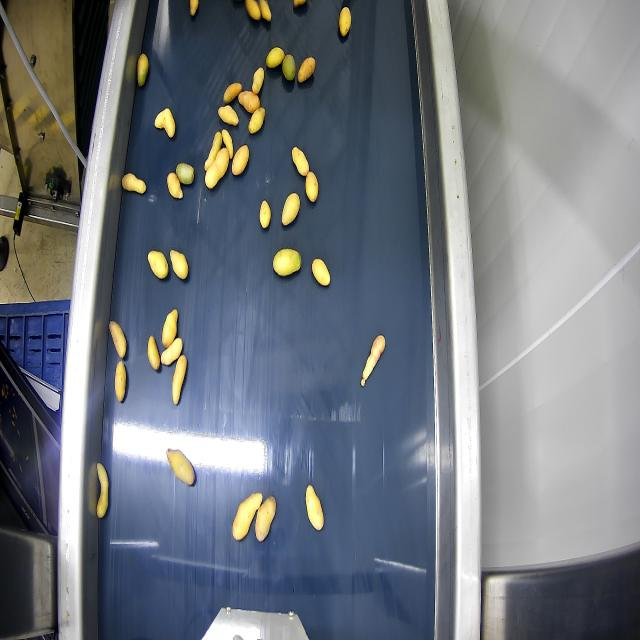Baby Potato: (232, 494, 262, 541), (361, 336, 385, 386), (167, 449, 194, 485), (255, 496, 276, 542), (205, 148, 229, 188), (306, 484, 324, 530), (273, 248, 301, 276), (172, 354, 186, 405), (204, 132, 222, 171), (109, 321, 126, 359), (162, 309, 178, 348), (97, 463, 108, 518), (161, 338, 182, 366), (155, 108, 175, 137), (148, 250, 168, 279), (282, 193, 300, 225), (231, 145, 249, 176), (170, 250, 188, 279), (292, 147, 309, 176), (312, 259, 330, 286), (122, 173, 145, 194), (115, 360, 126, 402), (238, 91, 259, 113), (248, 107, 265, 134), (305, 170, 319, 202), (147, 336, 160, 370), (298, 57, 315, 82), (218, 105, 238, 126), (338, 7, 352, 37), (167, 173, 183, 199), (175, 163, 194, 184), (137, 54, 148, 87), (266, 48, 284, 68), (223, 83, 241, 103), (252, 67, 264, 95), (222, 129, 233, 159), (282, 55, 295, 80), (245, 0, 261, 20), (260, 200, 270, 229), (259, 0, 271, 22), (190, 0, 198, 16), (294, 0, 305, 7)
